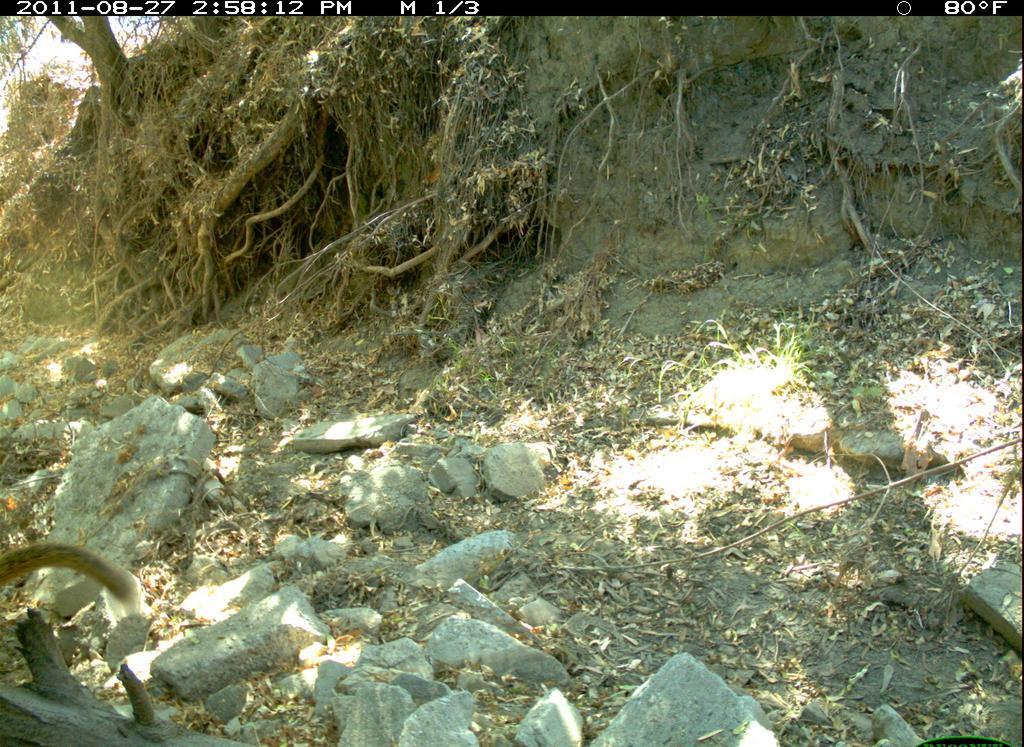squirrel: (6, 532, 150, 619)
